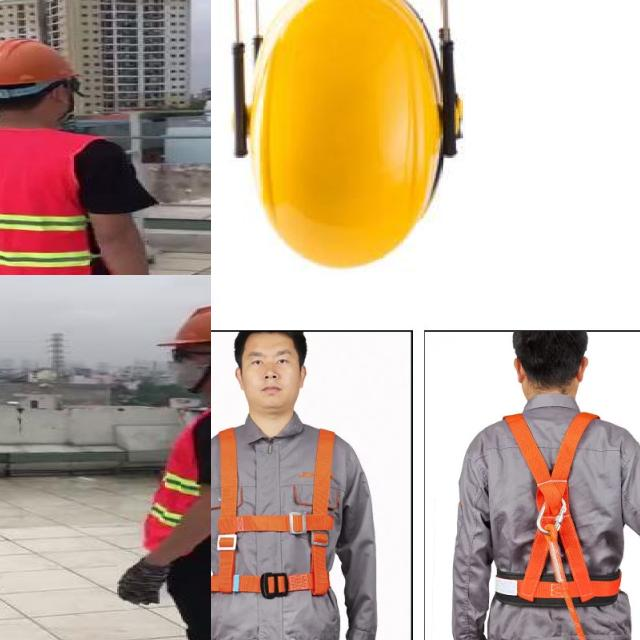Ear-protection: (261, 0, 463, 250)
Harness: (494, 409, 625, 611), (211, 427, 337, 598)
face_mask: (160, 345, 211, 395)
hand_glove: (117, 562, 169, 605)
head_helmet: (0, 35, 84, 91), (167, 301, 211, 352)
person: (0, 26, 161, 275), (107, 297, 211, 640)
vest: (0, 129, 91, 275), (141, 394, 211, 564)
